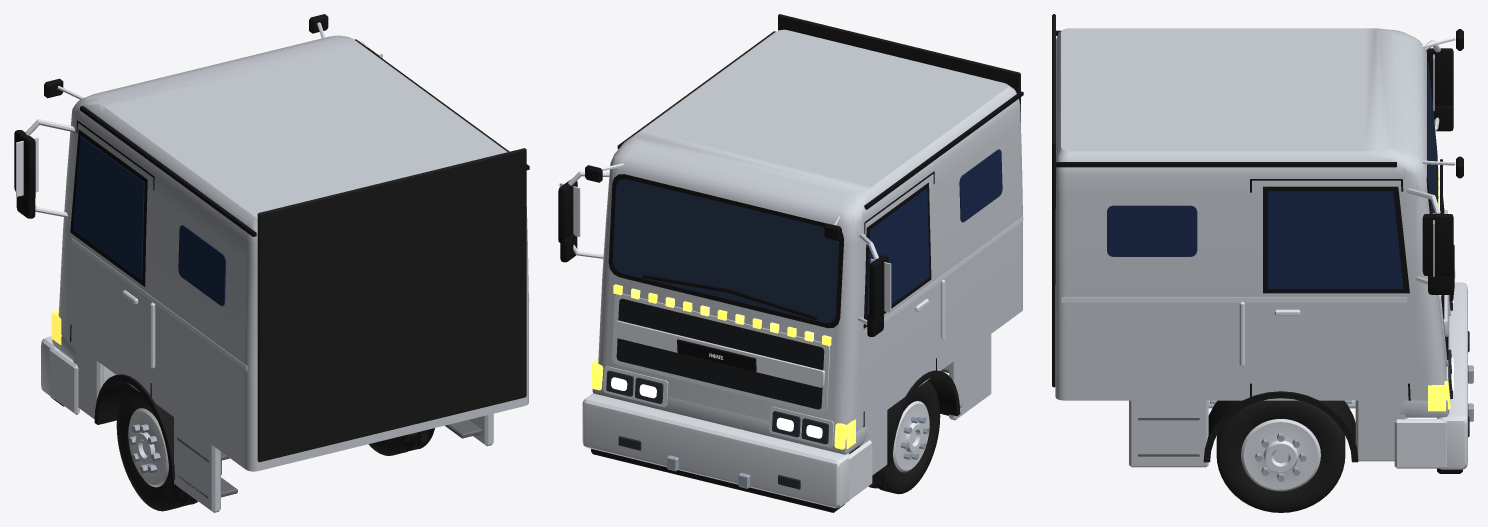
File: cab_flat_wide.glb
The picture shows the model from 3 angles, left to right: view 1: azimuth 30°, elevation 25°; view 2: azimuth 150°, elevation 25°; view 3: azimuth 270°, elevation 25°; orthographic projection. The views are drawn at different scales.
Parts seen in each view (by area): view 1: truck_paint_white_panel, truck_plastic_trim, truck_glass, truck_plastic_black, truck_chrome, wheel_f_L, wheel_f_R, truck_diamond; view 2: truck_paint_white_panel, truck_chrome, truck_glass_wind, truck_plastic_black, truck_vent_slots, truck_glass, truck_plastic_trim, wheel_f_L, truck_glass_lens, truck_lamp_amber, truck_lamp_white, truck_lamp_yellow; view 3: truck_paint_white_panel, truck_glass, wheel_f_R, truck_plastic_black, truck_chrome, truck_plastic_trim, truck_glass_wind, truck_lamp_amber.
Part boxes in pixels (x1,y1,x2,y2): truck_paint_white_panel: (52, 35, 528, 512); truck_plastic_trim: (94, 148, 526, 479); truck_glass: (73, 136, 226, 305); truck_plastic_black: (14, 14, 529, 406); truck_chrome: (16, 22, 529, 414); wheel_f_L: (116, 385, 197, 511); wheel_f_R: (368, 428, 434, 455); truck_diamond: (177, 420, 481, 498); truck_paint_white_panel: (592, 29, 1022, 475); truck_chrome: (559, 163, 1023, 508); truck_glass_wind: (612, 179, 839, 323); truck_plastic_black: (558, 31, 1023, 512); truck_vent_slots: (616, 298, 824, 409); truck_glass: (867, 149, 1002, 319); truck_plastic_trim: (778, 14, 1020, 465); wheel_f_L: (868, 380, 940, 494); truck_glass_lens: (606, 370, 828, 489); truck_lamp_amber: (591, 284, 855, 449); truck_lamp_white: (611, 377, 822, 438); truck_lamp_yellow: (631, 288, 814, 341); truck_paint_white_panel: (1055, 28, 1449, 467); truck_glass: (1107, 191, 1403, 288); wheel_f_R: (1216, 400, 1345, 512); truck_plastic_black: (1055, 29, 1463, 473); truck_chrome: (1061, 37, 1467, 469); truck_plastic_trim: (1052, 14, 1358, 462); truck_glass_wind: (1427, 61, 1437, 213); truck_lamp_amber: (1428, 171, 1450, 411).
Bounding box in the file's own units: 3.24 × 3.2 × 3.27.
15 materials, 6 textured.
